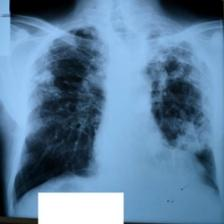tuberculosis: (5, 15, 221, 211)
